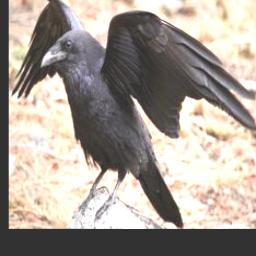Crow: (11, 0, 256, 225)
